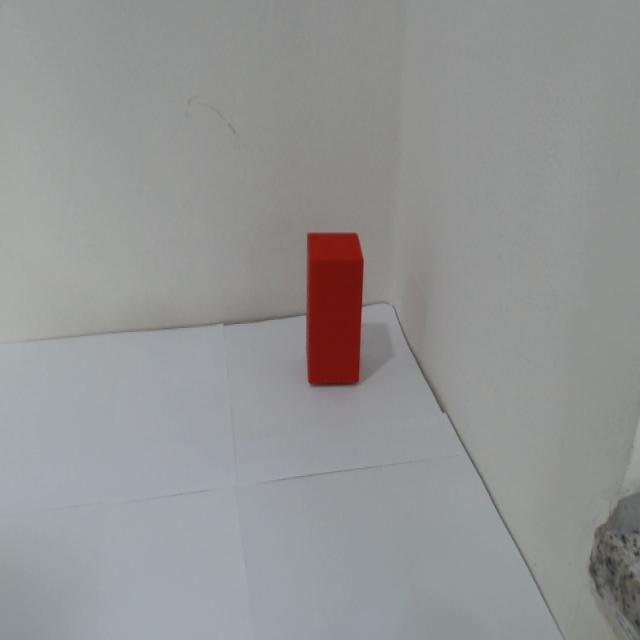cube: (302, 231, 365, 388)
